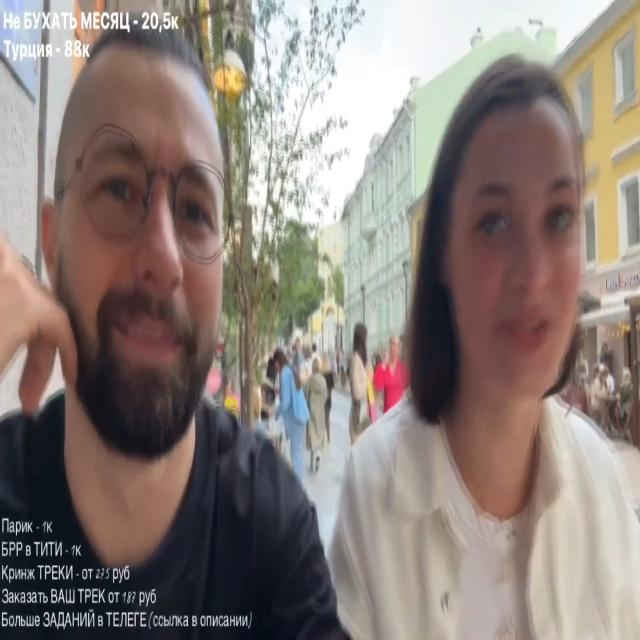Person: (287, 42, 640, 640), (16, 28, 256, 640), (264, 346, 312, 477), (349, 327, 378, 442), (374, 337, 410, 416)
